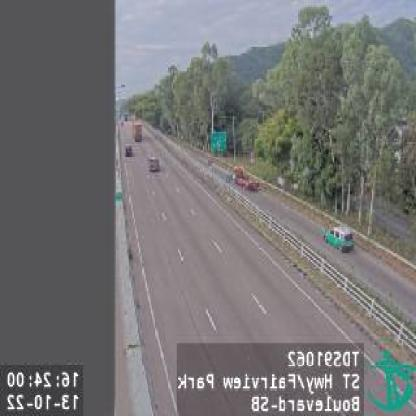Bus: (132, 120, 143, 142)
Car: (324, 224, 356, 252), (146, 155, 159, 173), (125, 145, 134, 156)
Truck: (230, 164, 260, 192)
